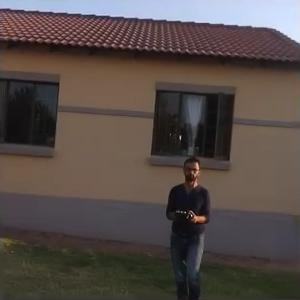follow: (159, 149, 212, 298)
